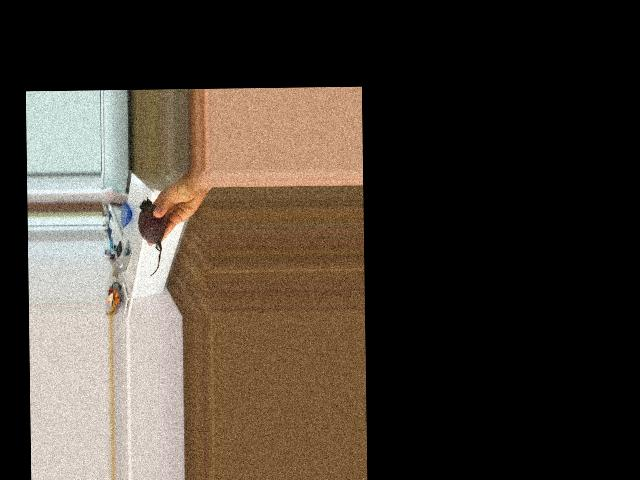beet: (138, 198, 166, 276)
